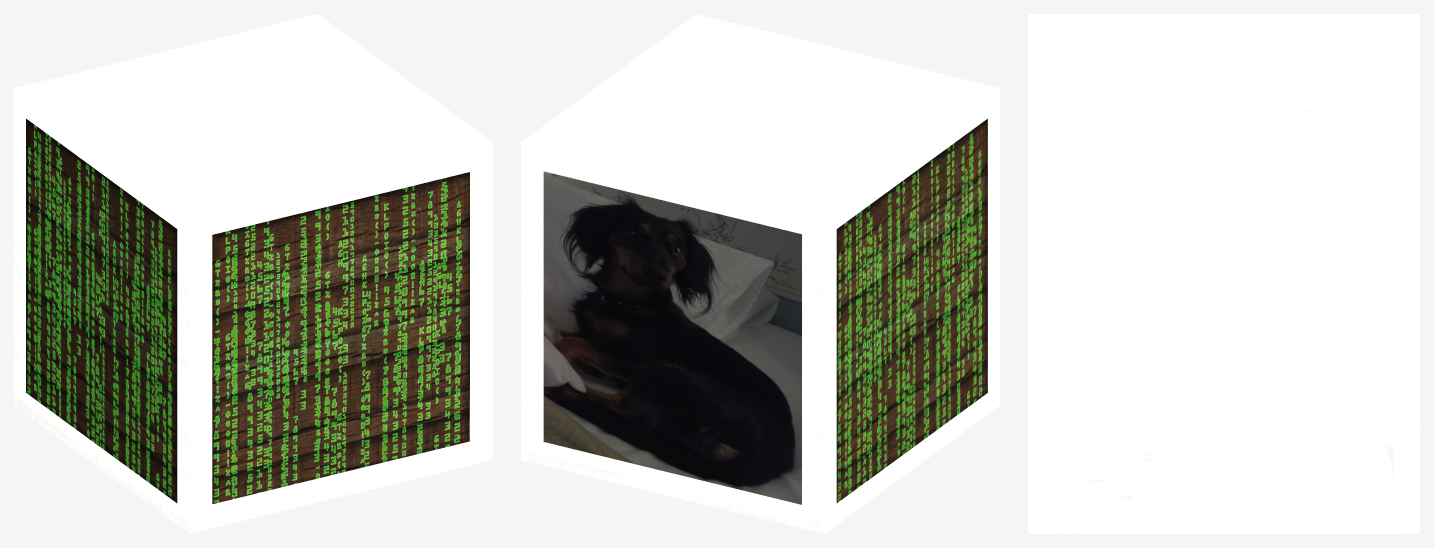
File: texture_cube_4.glb
3 views of the same model, side by side, from view 1: azimuth 30°, elevation 25°; view 2: azimuth 150°, elevation 25°; view 3: azimuth 270°, elevation 25° (orthographic). The views are drawn at different scales.
Visible parts, largest first — view 1: Cube; view 2: Cube; view 3: Cube.
Boxes of the visible parts, x1,y1,x2,y2 form: Cube: (14, 14, 492, 533); Cube: (521, 14, 999, 533); Cube: (1028, 14, 1419, 533).
Bounding box in the file's own units: 2 × 2 × 2.
Materials: 4 (4 with a texture image).
